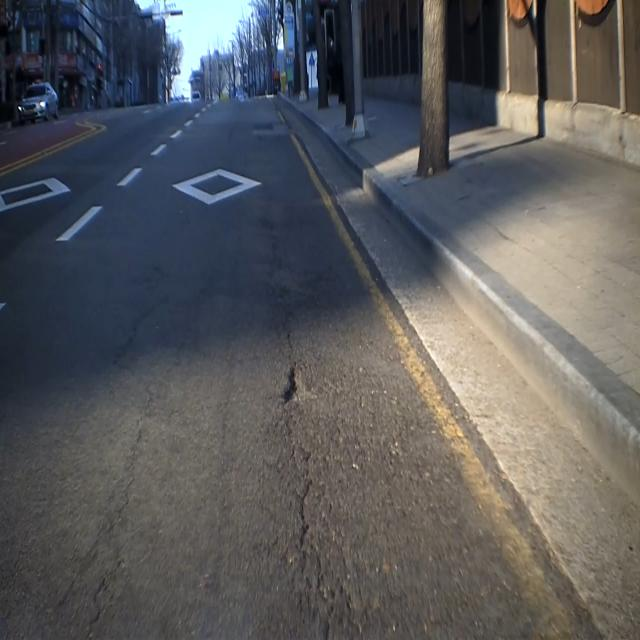Pothole: (273, 362, 318, 420)
